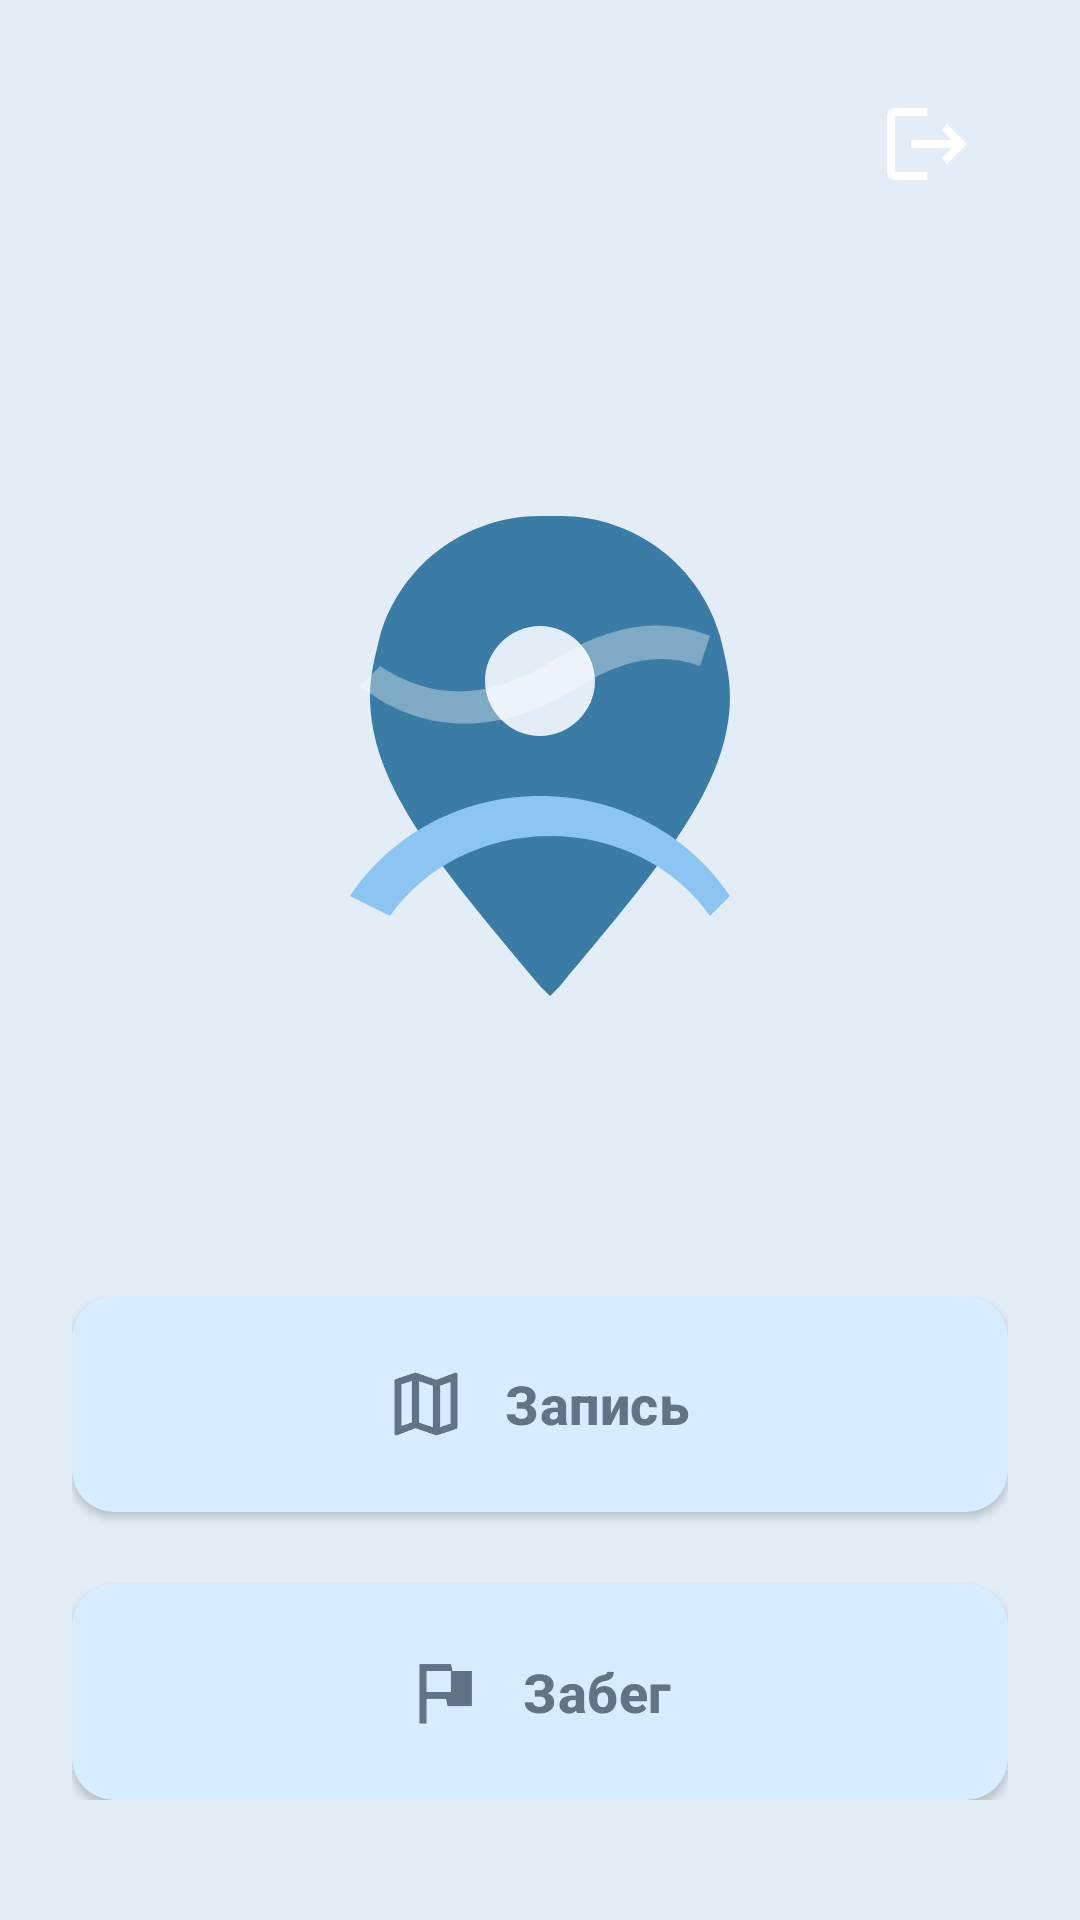

Icons on this 1080*1920 Android screen, each with its box as bbox(x1, y1, x2, y2):
exit: bbox(887, 108, 966, 180)
